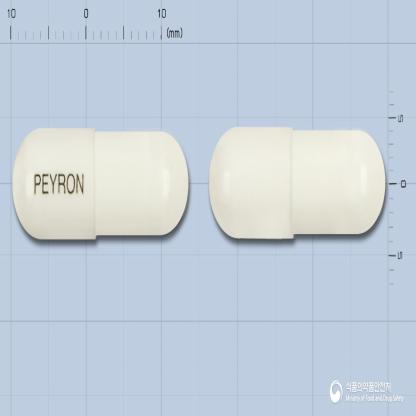pill: (11, 124, 189, 243), (206, 124, 386, 239)
